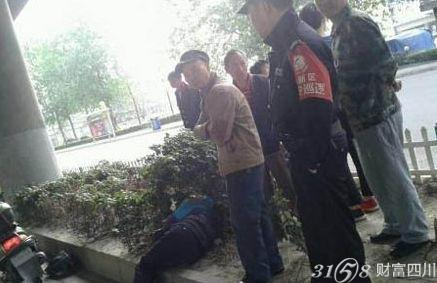fall: (110, 179, 229, 283)
